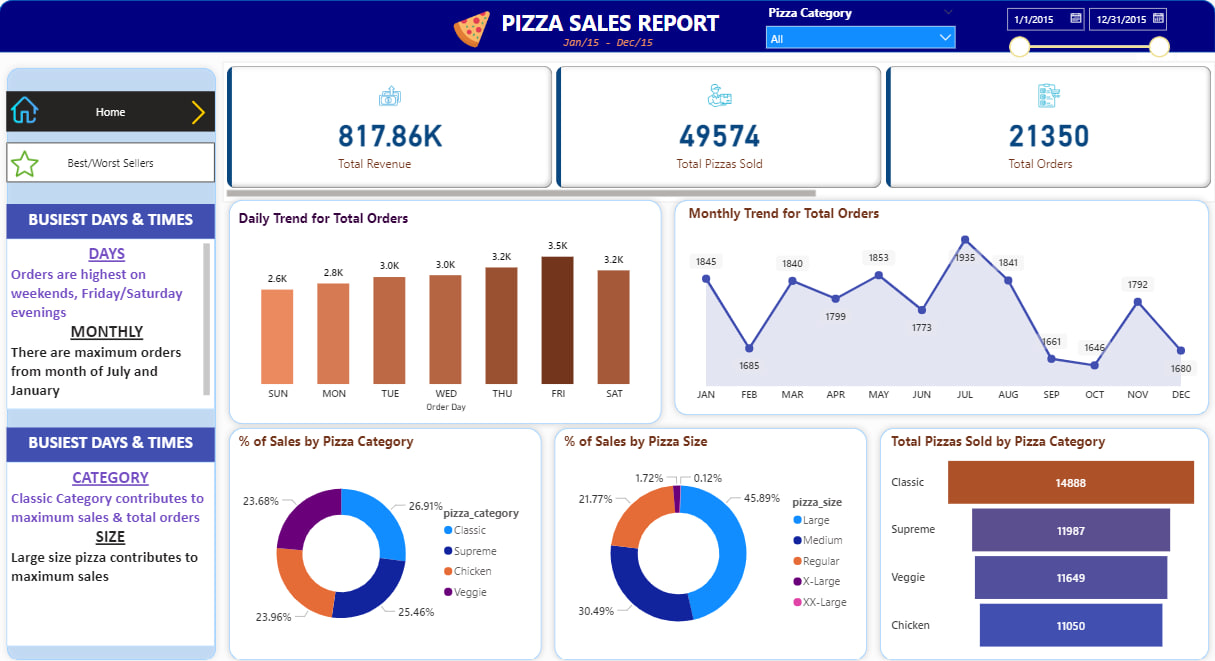

What the dashboard file says about the page in this screenshot:
{"tool":"powerbi","page":{"name":"Home","canvas":[1500,820],"ordinal":0},"visuals":[{"type":"cardVisual","fields":{"Data":["pizza_sales.Total Revenue","pizza_sales.Total Pizzas Sold","pizza_sales.Total Orders","pizza_sales.Avg Pizzas Per Order","pizza_sales.Avg Order Value"]},"box":[278.5,75.6,1220.8,173.3],"z":0},{"type":"shape","box":[3.7,0,1495.6,64.5],"z":1000},{"type":"textbox","box":[608.6,3.7,293.2,53.5],"z":2000},{"type":"shape","box":[5.5,75.6,272.9,745],"z":3000},{"type":"textbox","box":[678.6,36.9,147.5,38.7],"z":4000},{"type":"image","box":[549.5,7.4,70.1,57.2],"z":5000},{"type":"shape","box":[278.5,237.9,547.7,291.4],"z":6000},{"type":"clusteredColumnChart","title":"Daily Trend for Total Orders","fields":{"Category":["pizza_sales.Order Day"],"Y":["pizza_sales.Total Orders"]},"box":[293.2,256.3,520,254.5],"z":7000},{"type":"shape","box":[826.2,237.9,673.1,280.3],"z":8000},{"type":"areaChart","title":"Monthly Trend for Total Orders","fields":{"Category":["pizza_sales.Order Month"],"Y":["pizza_sales.Total Orders"]},"box":[846.5,250.8,636.2,252.6],"z":9000},{"type":"shape","box":[278.5,518.2,400.2,302.4],"z":10000},{"type":"shape","box":[678.6,518.2,400.2,302.4],"z":11000},{"type":"shape","box":[1078.8,518.2,420.5,302.4],"z":12000},{"type":"donutChart","title":"% of Sales by Pizza Category","fields":{"Category":["pizza_sales.pizza_category"],"Y":["pizza_sales.Total Revenue"]},"box":[293.2,531.1,370.7,276.6],"z":13000},{"type":"donutChart","title":"% of Sales by Pizza Size","fields":{"Y":["pizza_sales.Total Revenue"],"Category":["pizza_sales.pizza_size"]},"box":[693.4,531.1,370.7,276.6],"z":14000},{"type":"funnel","title":"Total Pizzas Sold by Pizza Category","fields":{"Category":["pizza_sales.pizza_category"],"Y":["pizza_sales.Total Pizzas Sold"]},"box":[1095.4,531.1,387.3,276.6],"z":15000},{"type":"textbox","box":[12.9,525.6,256.3,42.4],"z":16000},{"type":"textbox","box":[12.9,568,256.3,226.8],"z":17000},{"type":"slicer","fields":{"Values":["pizza_sales.pizza_category"]},"box":[936.8,0,252.6,64.5],"z":18000},{"type":"slicer","fields":{"Values":["pizza_sales.order_date"]},"box":[1230,0,221.3,75.6],"z":19000},{"type":"textbox","box":[12.9,293.2,256.3,210.2],"z":20000},{"type":"textbox","box":[12.9,250.8,256.3,42.4],"z":21000},{"type":"pageNavigator","box":[12.9,112.5,256.3,49.8],"z":22000},{"type":"pageNavigator","box":[12.9,175.2,256.3,49.8],"z":23000},{"type":"image","box":[228.7,118,40.6,40.6],"z":24000},{"type":"image","box":[12.9,112.5,44.3,44.3],"z":25000},{"type":"image","box":[12.9,178.9,44.3,44.3],"z":26000}]}

Visuals, with their boxes in screenshot pixels (x1, y1, x2, y2), scaled from the page's 1500x820 canvas onto the 1215x661 screenshot:
cardVisual - pizza_sales.Total Revenue x pizza_sales.Total Pizzas Sold: <box>226,61,1214,201</box>
shape: <box>3,0,1214,52</box>
textbox: <box>493,3,730,46</box>
shape: <box>4,61,226,660</box>
textbox: <box>550,30,669,61</box>
image: <box>445,6,502,52</box>
shape: <box>226,192,669,427</box>
"Daily Trend for Total Orders" clusteredColumnChart: <box>237,207,659,412</box>
shape: <box>669,192,1214,418</box>
"Monthly Trend for Total Orders" areaChart: <box>686,202,1201,406</box>
shape: <box>226,418,550,660</box>
shape: <box>550,418,874,660</box>
shape: <box>874,418,1214,660</box>
"% of Sales by Pizza Category" donutChart: <box>237,428,538,651</box>
"% of Sales by Pizza Size" donutChart: <box>562,428,862,651</box>
"Total Pizzas Sold by Pizza Category" funnel: <box>887,428,1201,651</box>
textbox: <box>10,424,218,458</box>
textbox: <box>10,458,218,641</box>
slicer - pizza_sales.pizza_category: <box>759,0,963,52</box>
slicer - pizza_sales.order_date: <box>996,0,1176,61</box>
textbox: <box>10,236,218,406</box>
textbox: <box>10,202,218,236</box>
pageNavigator: <box>10,91,218,131</box>
pageNavigator: <box>10,141,218,181</box>
image: <box>185,95,218,128</box>
image: <box>10,91,46,126</box>
image: <box>10,144,46,180</box>
